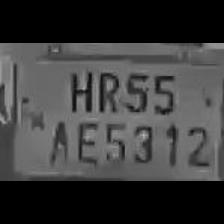1: (156, 116, 180, 168)
2: (182, 120, 212, 168)
3: (128, 116, 156, 166)
5: (120, 66, 150, 114), (149, 69, 177, 115), (100, 117, 126, 163)
A: (43, 116, 70, 166)
E: (70, 117, 98, 163)
H: (65, 64, 95, 114)
R: (94, 66, 120, 112)
